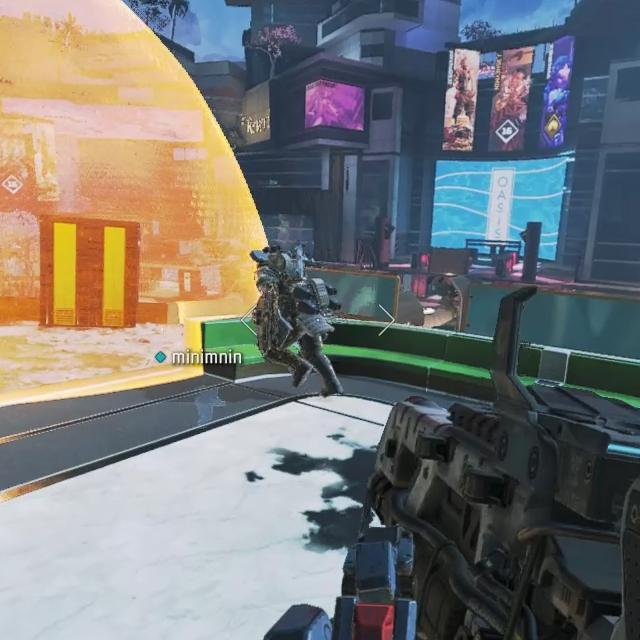avatar: (247, 241, 344, 400)
